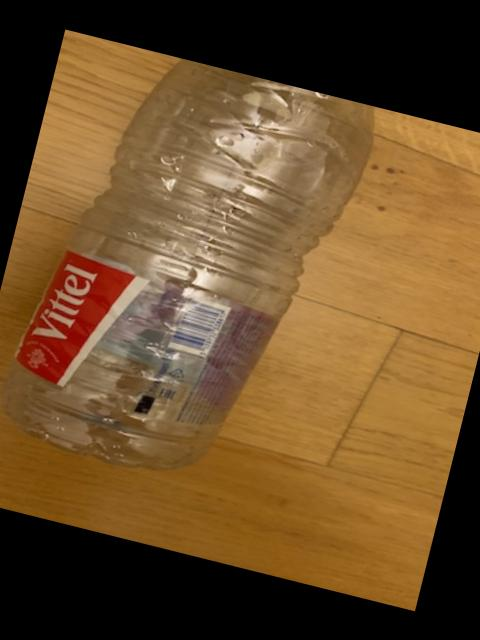plastic: (0, 59, 369, 469)
